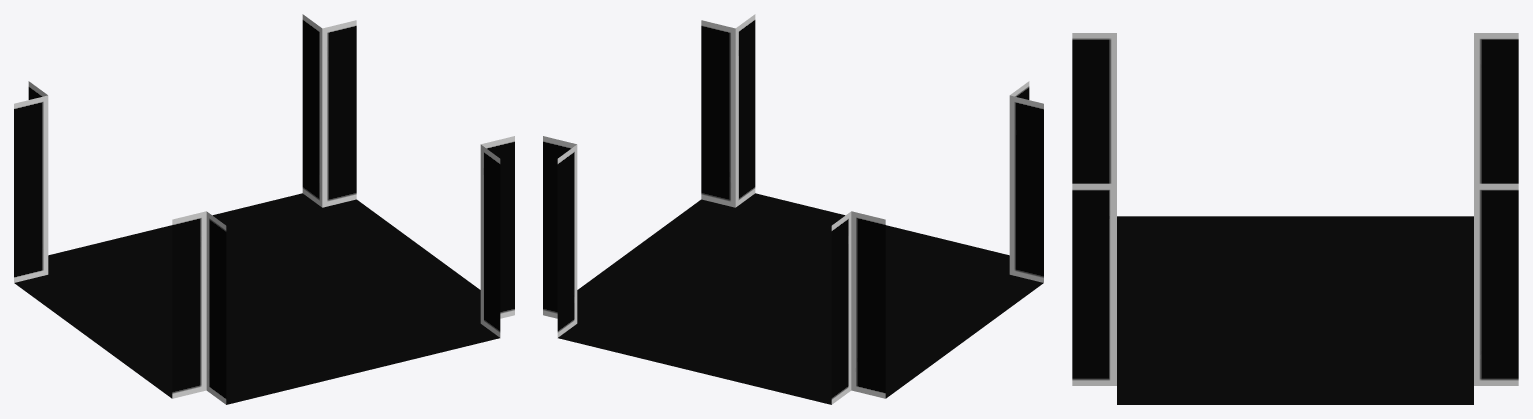
The model's file is duct-four-way-crossing.fbx.
The picture shows the model from 3 angles, left to right: view 1: azimuth 30°, elevation 25°; view 2: azimuth 150°, elevation 25°; view 3: azimuth 270°, elevation 25°; orthographic projection. The views are drawn at different scales.
Visible parts, largest first — view 1: FourWay; view 2: FourWay; view 3: FourWay.
Boxes of the visible parts, box(x1,y1,x2,y2) form: FourWay: box(14, 14, 514, 404); FourWay: box(543, 14, 1043, 404); FourWay: box(1072, 33, 1518, 404).
Size of the model in its own units: 100 by 50 by 100.
